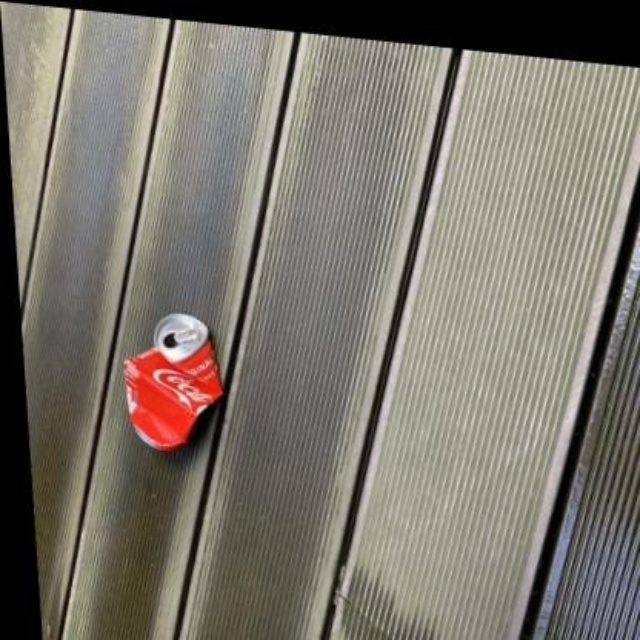trash: (123, 314, 220, 449)
